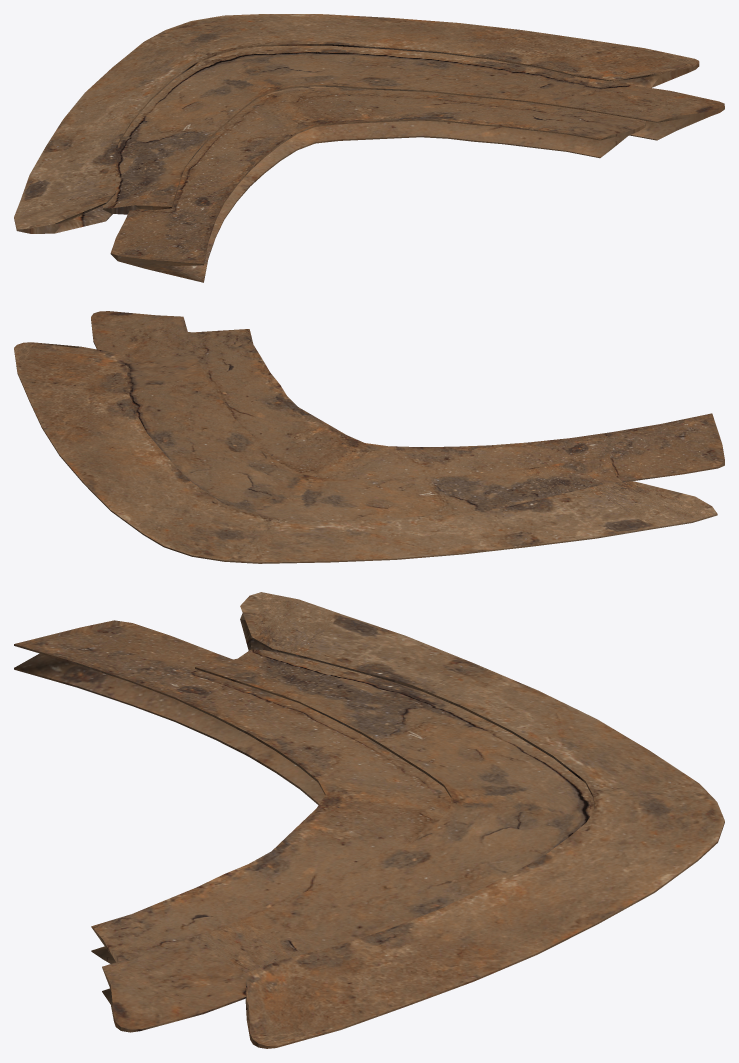
File: Litou.obj
3 renders of one model, top to bottom at view 1: azimuth 30°, elevation 25°; view 2: azimuth 150°, elevation 25°; view 3: azimuth 270°, elevation 25°, orthographic. The views are drawn at different scales.
Bounding box in the file's own units: 32.97 × 0.8656 × 21.79.
1 material, 1 textured.
